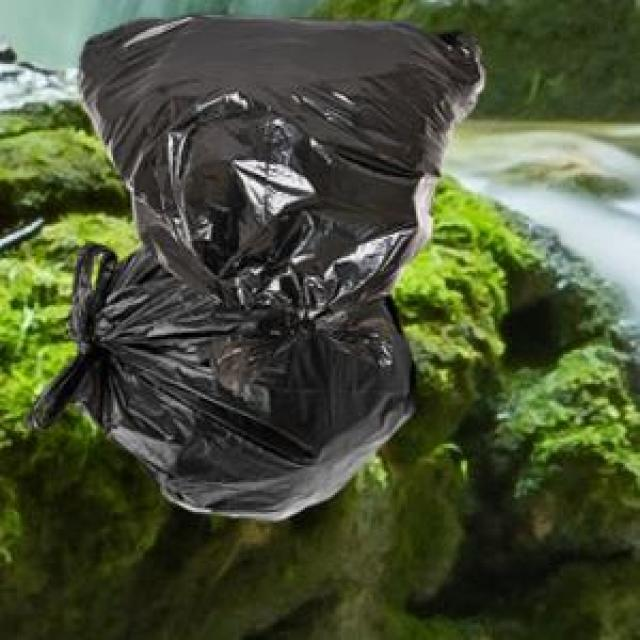Vinyl: (62, 225, 426, 541), (77, 18, 480, 294)
